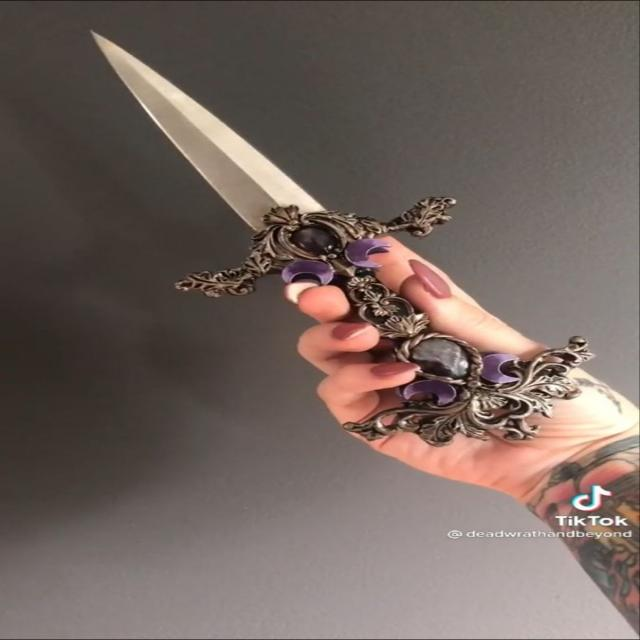short sword: (63, 26, 605, 460)
